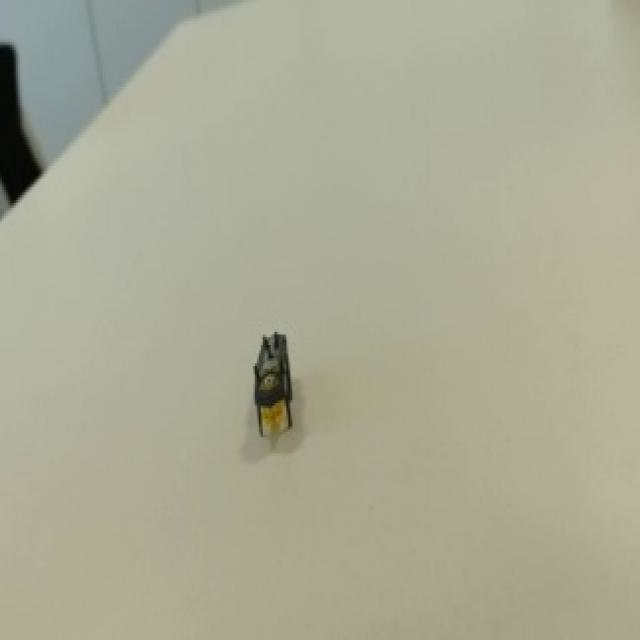6_NanoBug_GrisOscuro: (223, 314, 333, 460)
